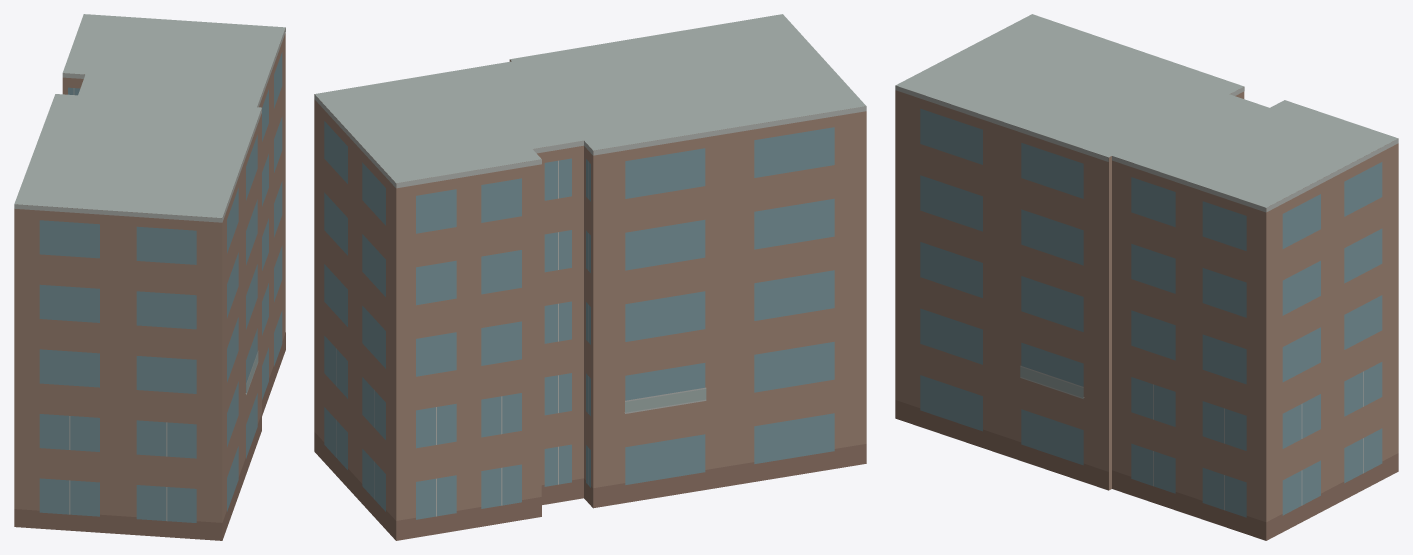
File: survey-upis-32961071.glb
3 renders of one model, left to right at view 1: azimuth 30°, elevation 25°; view 2: azimuth 150°, elevation 25°; view 3: azimuth 270°, elevation 25°, orthographic. The views are drawn at different scales.
Visible parts, largest first — view 1: survey-upis-32961071.tmp; view 2: survey-upis-32961071.tmp; view 3: survey-upis-32961071.tmp.
Part boxes in pixels (x1,y1,x2,y2): survey-upis-32961071.tmp: [14, 14, 285, 540]; survey-upis-32961071.tmp: [314, 14, 866, 540]; survey-upis-32961071.tmp: [895, 14, 1398, 540].
Bounding box in the file's own units: 21.47 × 17.2 × 23.56.
